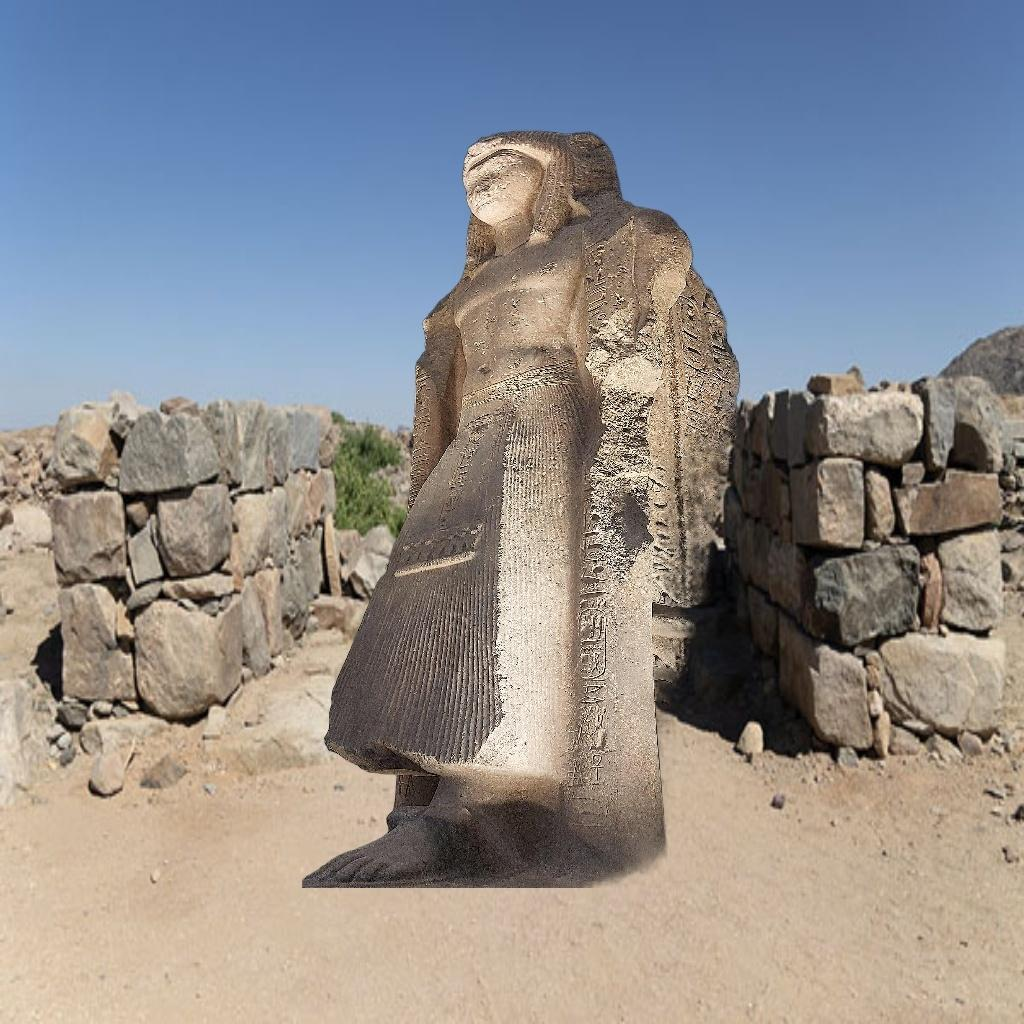Statue of King Sety Il Holding Standards: (302, 125, 866, 888)
